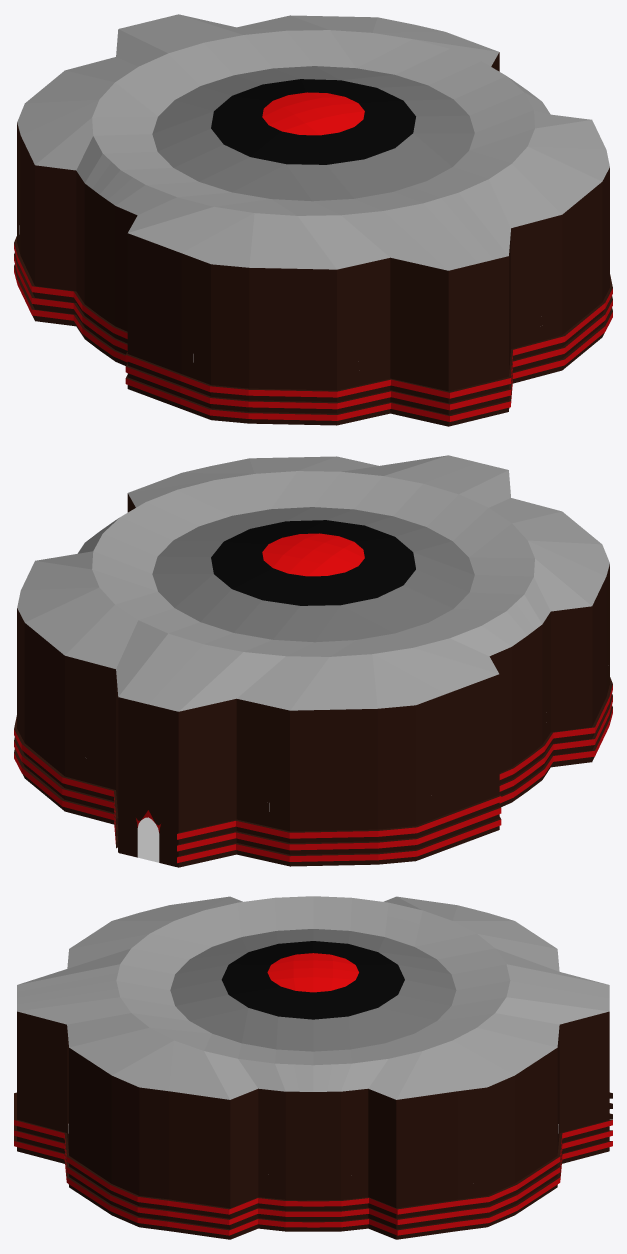
Rendered from arena0.fbx.
3 views of the same model, one above another, from view 1: azimuth 30°, elevation 25°; view 2: azimuth 150°, elevation 25°; view 3: azimuth 270°, elevation 25° (orthographic). The views are drawn at different scales.
Parts seen in each view (by area): view 1: Plane; view 2: Plane; view 3: Plane.
Boxes of the visible parts, left/top/right/bottom form: Plane: left=14, top=14, right=612, bottom=426; Plane: left=14, top=455, right=612, bottom=867; Plane: left=14, top=896, right=612, bottom=1239.
Size of the model in its own units: 4882 by 1905 by 6013.
